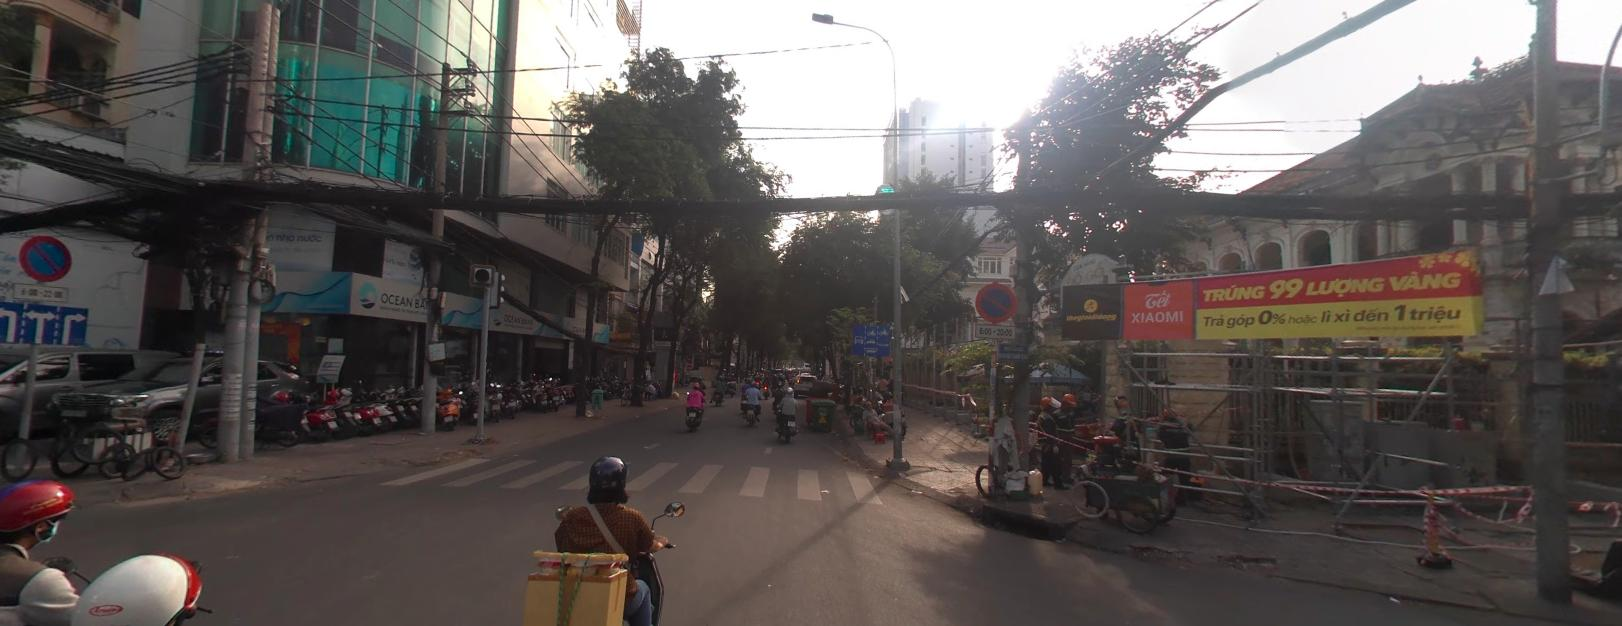Cam dung va do: (18, 234, 72, 280), (974, 281, 1016, 320)
